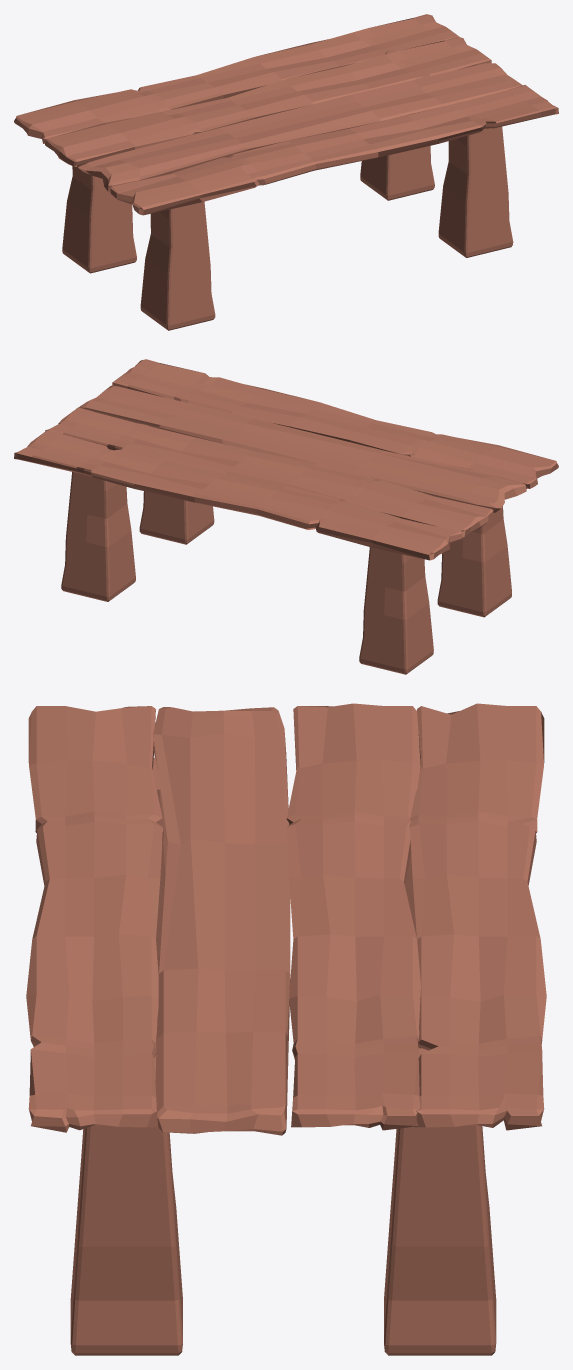
File: meja.fbx
The picture shows the model from 3 angles, top to bottom: view 1: azimuth 30°, elevation 25°; view 2: azimuth 150°, elevation 25°; view 3: azimuth 270°, elevation 25°; orthographic projection. The views are drawn at different scales.
Visible parts, largest first — view 1: LP Plank 1m B.001, Cube.002, Cube, Cube.001, Cube.003; view 2: LP Plank 1m B.001, Cube.003, Cube.001, Cube, Cube.002; view 3: LP Plank 1m B.001, Cube.003, Cube.002, Cube.
Part boxes in pixels (box(x1,y1,x2,y2)): LP Plank 1m B.001: box(14, 14, 558, 215); Cube.002: box(438, 126, 513, 257); Cube: box(140, 201, 215, 330); Cube.001: box(62, 166, 136, 273); Cube.003: box(360, 145, 434, 200); LP Plank 1m B.001: box(14, 359, 558, 560); Cube.003: box(61, 449, 135, 601); Cube.001: box(359, 547, 433, 674); Cube: box(437, 506, 511, 617); Cube.002: box(139, 491, 214, 544); LP Plank 1m B.001: box(26, 703, 546, 1135); Cube.003: box(384, 1048, 496, 1355); Cube.002: box(70, 1054, 182, 1355); Cube: box(153, 757, 167, 1046).
Size of the model in its own units: 272 by 87.24 by 145.
